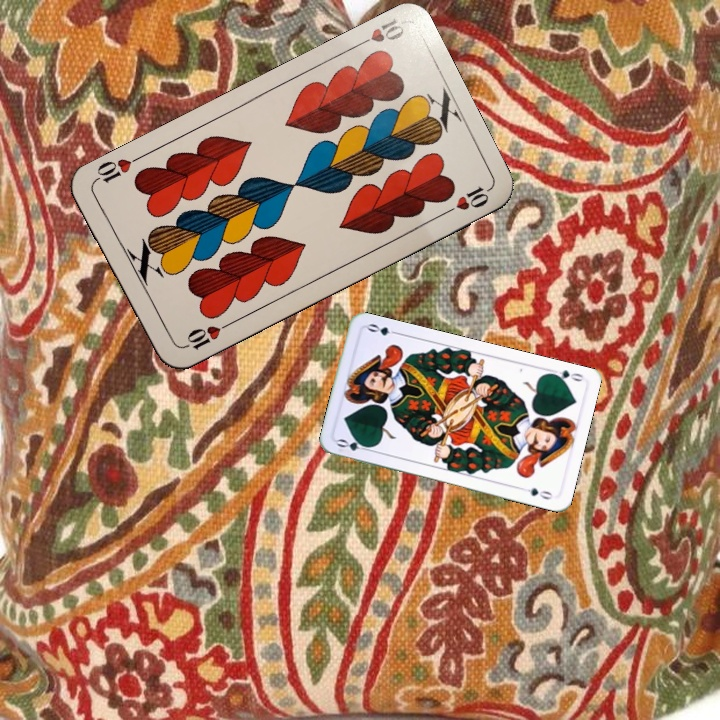GO: (545, 365, 586, 385), (333, 435, 374, 454)
H10: (349, 14, 407, 51), (177, 318, 233, 352)
